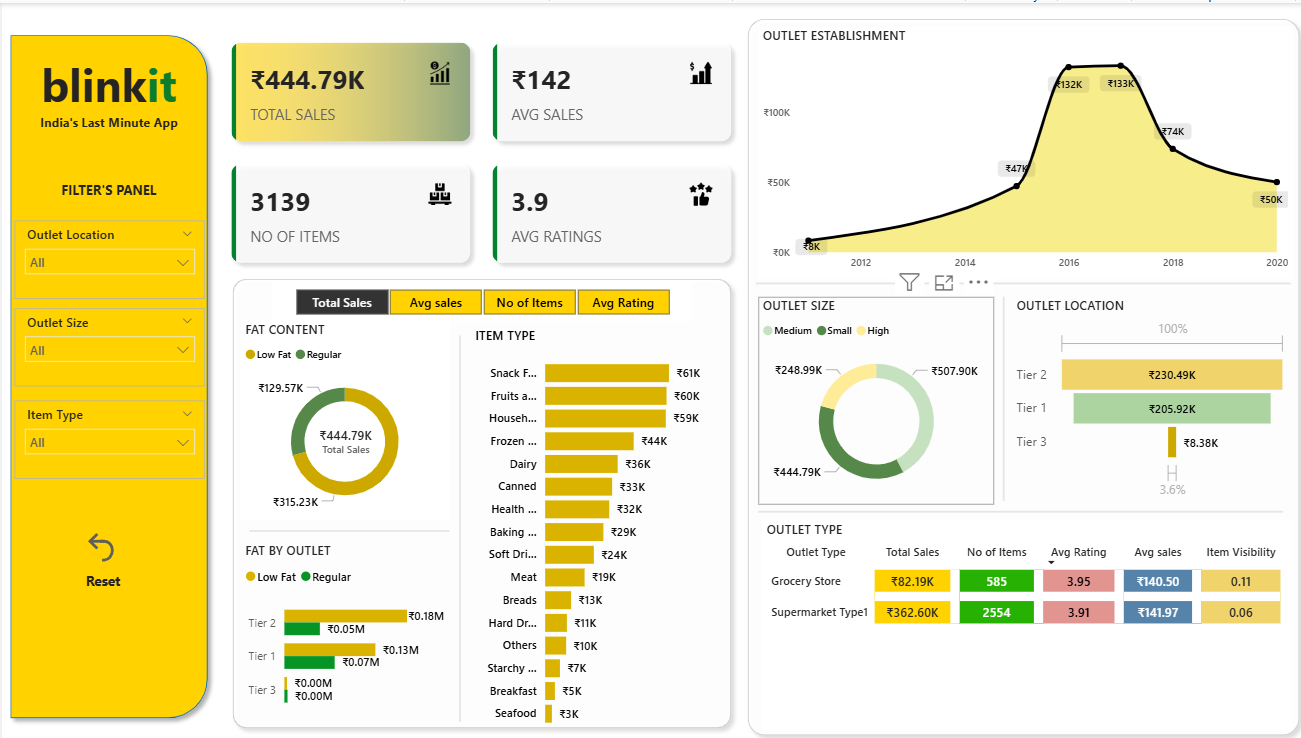

The page's visual inventory and layout, read from the dashboard file:
{"tool":"powerbi","page":{"name":"Page 1","canvas":[1400,800],"ordinal":0},"visuals":[{"type":"shape","box":[0,25.5,229.6,750.4],"z":0},{"type":"textbox","box":[0,49.5,229.6,82.5],"z":1000},{"type":"textbox","box":[0,114.1,229.6,34.5],"z":2000},{"type":"cardVisual","fields":{"Data":["BlinkIT Grocery Data.Total Sales","BlinkIT Grocery Data.Avg sales","BlinkIT Grocery Data.No of Items","BlinkIT Grocery Data.Avg Rating"]},"box":[229.6,25.5,570.3,270.2],"z":3000},{"type":"shape","box":[238.6,286.7,552.3,499.8],"z":4000},{"type":"donutChart","title":"FAT CONTENT","fields":{"Y":["BlinkIT Grocery Data.Total Sales"],"Category":["BlinkIT Grocery Data.Item Fat Content"]},"box":[256.6,340.7,223.6,214.6],"z":5000},{"type":"slicer","fields":{"Values":["Metrics.Metrics"]},"box":[289.7,300.2,450.3,40.5],"z":6000},{"type":"cardVisual","fields":{"Data":["BlinkIT Grocery Data.Total Sales"]},"box":[321.2,436.8,94.6,64.5],"z":7000},{"type":"clusteredBarChart","title":"FAT BY OUTLET","fields":{"Y":["BlinkIT Grocery Data.Total Sales"],"Category":["BlinkIT Grocery Data.Outlet Location Type"],"Series":["BlinkIT Grocery Data.Item Fat Content"]},"box":[256.6,577.8,223.6,193.6],"z":8000},{"type":"shape","box":[265.7,555.3,214.6,22.5],"z":9000},{"type":"shape","box":[468.3,357.2,46.5,414.2],"z":10000},{"type":"barChart","title":"ITEM TYPE","fields":{"Y":["BlinkIT Grocery Data.Total Sales"],"Category":["BlinkIT Grocery Data.Item Type"]},"box":[502.8,346.7,267.2,439.8],"z":11000},{"type":"shape","box":[791,7.5,609.4,786.5],"z":12000},{"type":"lineChart","title":"OUTLET ESTABLISHMENT","fields":{"Y":["BlinkIT Grocery Data.Total Sales"],"Category":["BlinkIT Grocery Data.Outlet Establishment Year"]},"box":[810.5,25.5,573.3,270.2],"z":13000},{"type":"donutChart","title":"OUTLET SIZE","fields":{"Y":["BlinkIT Grocery Data.Total Sales"],"Category":["BlinkIT Grocery Data.Outlet Size"]},"box":[810.5,315.2,253.6,222.1],"z":14000},{"type":"shape","box":[1050.6,315.2,46.5,219.1],"z":15000},{"type":"funnel","title":"OUTLET LOCATION","fields":{"Y":["BlinkIT Grocery Data.Total Sales"],"Category":["BlinkIT Grocery Data.Outlet Location Type"]},"box":[1083.6,315.2,300.2,222.1],"z":16000},{"type":"shape","box":[810.5,526.8,562.8,37.5],"z":17000},{"type":"pivotTable","title":"OUTLET TYPE","fields":{"Rows":["BlinkIT Grocery Data.Outlet Type"],"Values":["BlinkIT Grocery Data.Total Sales","BlinkIT Grocery Data.No of Items","BlinkIT Grocery Data.Avg Rating","BlinkIT Grocery Data.Avg sales","Avg(BlinkIT Grocery Data.Item Visibility)"]},"box":[815,555.3,568.8,225.1],"z":18000},{"type":"slicer","fields":{"Values":["BlinkIT Grocery Data.Outlet Location Type"]},"box":[13.5,232.6,204.1,84],"z":19000},{"type":"shape","box":[809,295.7,573.3,9],"z":20000},{"type":"slicer","fields":{"Values":["BlinkIT Grocery Data.Outlet Size"]},"box":[13.5,327.2,204.1,84],"z":21000},{"type":"slicer","fields":{"Values":["BlinkIT Grocery Data.Item Type"]},"box":[13.5,426.2,204.1,84],"z":22000},{"type":"textbox","box":[0,186.1,229.6,34.5],"z":23000},{"type":"actionButton","box":[85.2,563,45.7,41.1],"z":24000},{"type":"textbox","box":[42.6,604.1,130.9,35],"z":24001}]}

Visuals, with their boxes in screenshot pixels (x1, y1, x2, y2), scaled from the page's 1400x800 canvas onto the 1301x738 screenshot:
shape: box=[0, 24, 213, 716]
textbox: box=[0, 46, 213, 122]
textbox: box=[0, 105, 213, 137]
cardVisual - BlinkIT Grocery Data.Total Sales x BlinkIT Grocery Data.Avg sales: box=[213, 24, 743, 273]
shape: box=[222, 264, 735, 726]
"FAT CONTENT" donutChart: box=[238, 314, 446, 512]
slicer - Metrics.Metrics: box=[269, 277, 688, 314]
cardVisual - BlinkIT Grocery Data.Total Sales: box=[298, 403, 386, 462]
"FAT BY OUTLET" clusteredBarChart: box=[238, 533, 446, 712]
shape: box=[247, 512, 446, 533]
shape: box=[435, 330, 478, 712]
"ITEM TYPE" barChart: box=[467, 320, 716, 726]
shape: box=[735, 7, 1300, 732]
"OUTLET ESTABLISHMENT" lineChart: box=[753, 24, 1286, 273]
"OUTLET SIZE" donutChart: box=[753, 291, 989, 496]
shape: box=[976, 291, 1020, 493]
"OUTLET LOCATION" funnel: box=[1007, 291, 1286, 496]
shape: box=[753, 486, 1276, 521]
"OUTLET TYPE" pivotTable: box=[757, 512, 1286, 720]
slicer - BlinkIT Grocery Data.Outlet Location Type: box=[13, 215, 202, 292]
shape: box=[752, 273, 1285, 281]
slicer - BlinkIT Grocery Data.Outlet Size: box=[13, 302, 202, 379]
slicer - BlinkIT Grocery Data.Item Type: box=[13, 393, 202, 471]
textbox: box=[0, 172, 213, 204]
actionButton: box=[79, 519, 122, 557]
textbox: box=[40, 557, 161, 590]
